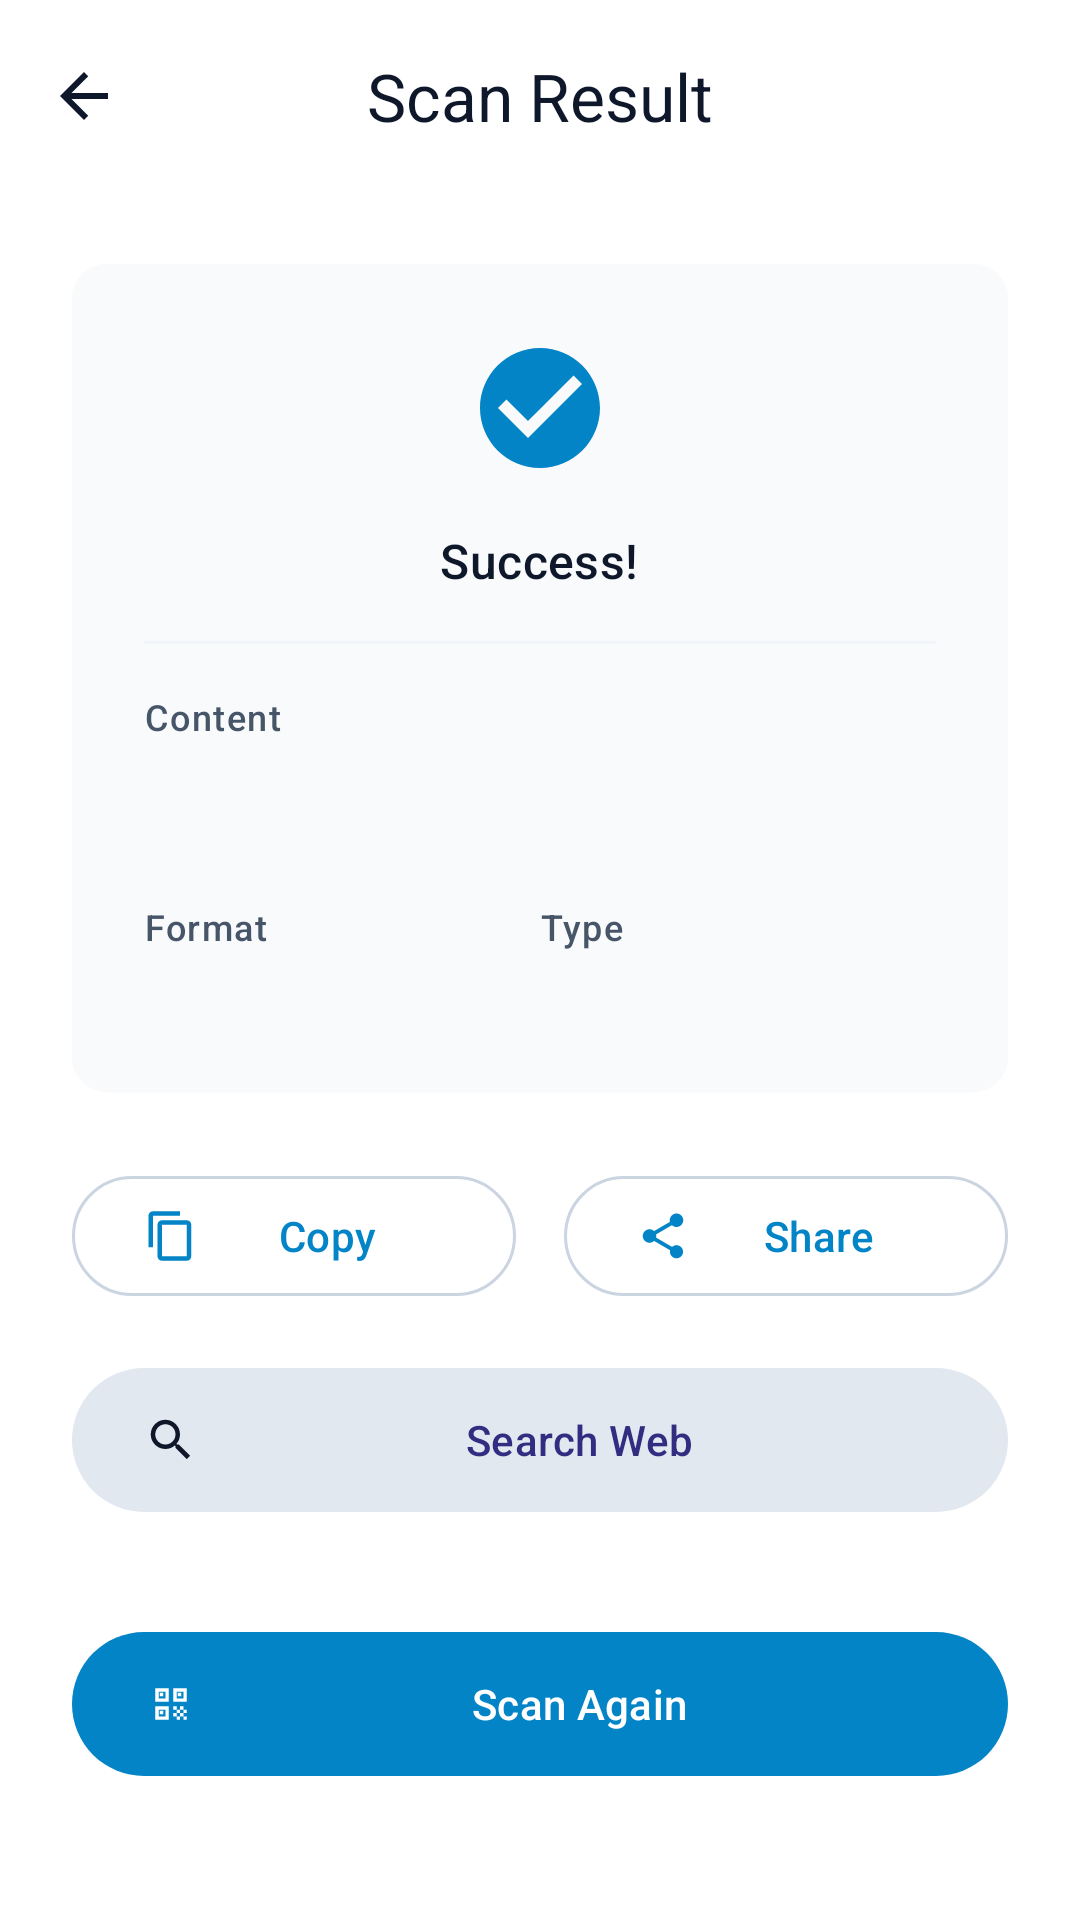

Named icons in this screenshot (1080 × 1920) and their centers, point (x, y):
check circle: point (540, 408)
